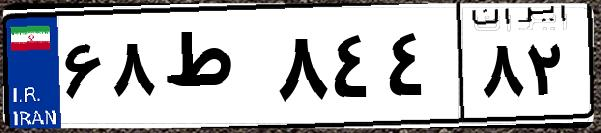2: (525, 38, 570, 115)
4: (385, 28, 445, 110), (330, 28, 385, 110)
6: (57, 26, 110, 100)
8: (270, 28, 330, 110), (475, 38, 525, 113), (110, 28, 158, 98)
ط: (158, 20, 270, 120)
